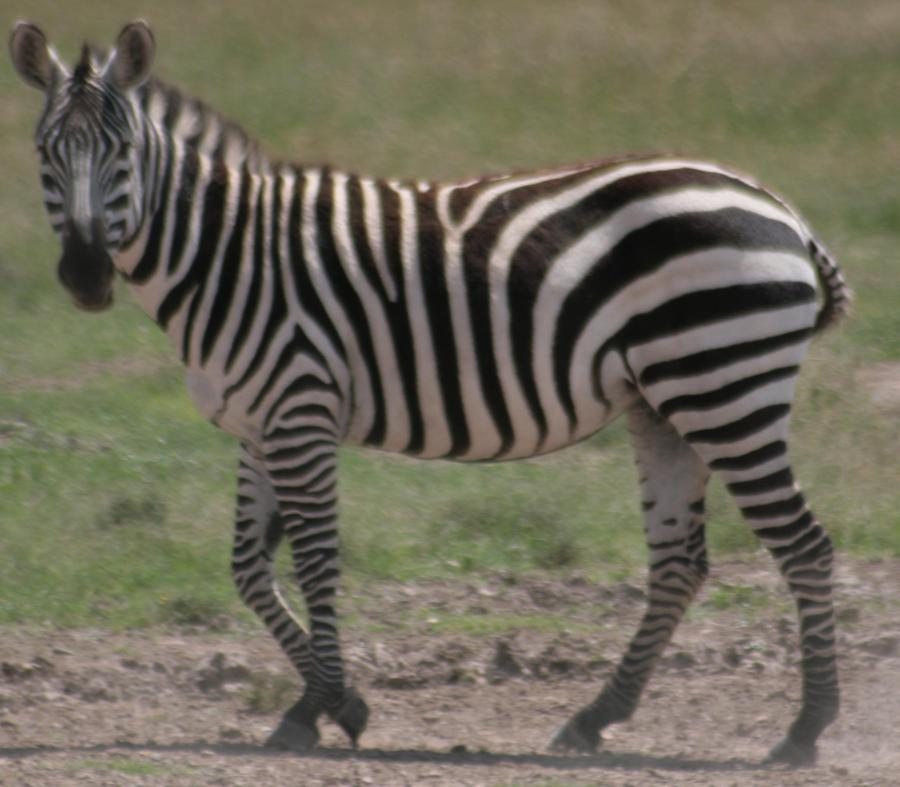zebra_plains: (194, 132, 818, 456)
